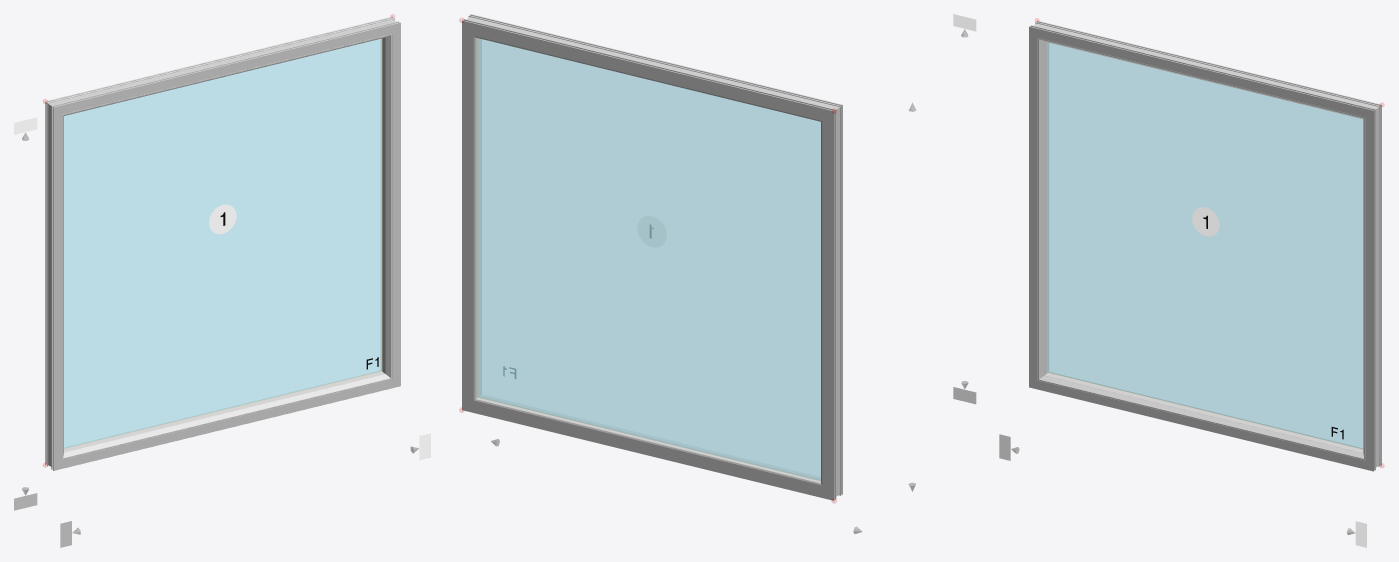
The picture shows the model from 3 angles, left to right: view 1: azimuth 30°, elevation 25°; view 2: azimuth 150°, elevation 25°; view 3: azimuth 330°, elevation 25°; orthographic projection. The views are drawn at different scales.
Parts seen in each view (by area): view 1: GlassMesh, profile (×8), object 23, GlassIdLabel; view 2: GlassMesh, profile (×6), object 23, GlassIdLabel; view 3: GlassMesh, profile (×8), GlassIdLabel.
Boxes of the visible parts, <box> form: GlassMesh: <box>64,38,381,448</box>; profile (×8): <box>45,16,400,470</box>; object 23: <box>381,38,382,371</box>; GlassIdLabel: <box>209,204,236,234</box>; GlassMesh: <box>477,38,820,480</box>; profile (×6): <box>462,14,842,500</box>; object 23: <box>477,38,478,396</box>; GlassIdLabel: <box>637,216,666,247</box>; GlassMesh: <box>1048,42,1363,449</box>; profile (×8): <box>1029,20,1381,471</box>; GlassIdLabel: <box>1192,207,1219,236</box>.
Size of what is drawn, in the model's own units: 1800 by 1800 by 224.
